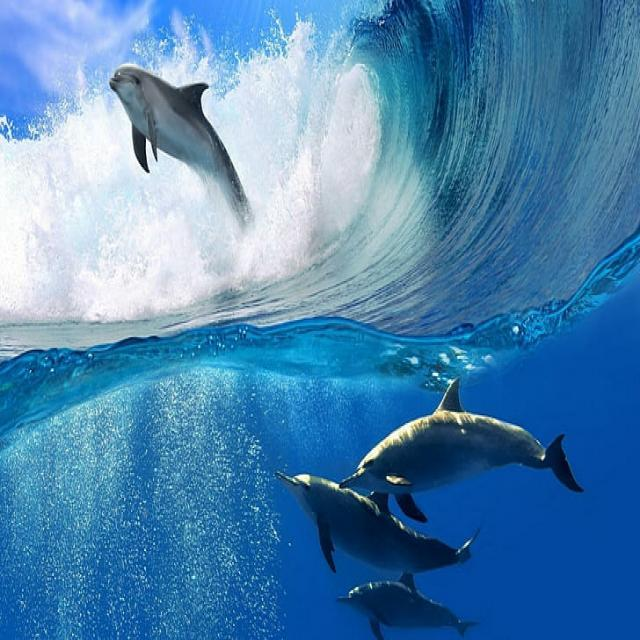dolphin: (332, 381, 594, 520), (108, 44, 259, 264), (270, 456, 480, 584)
